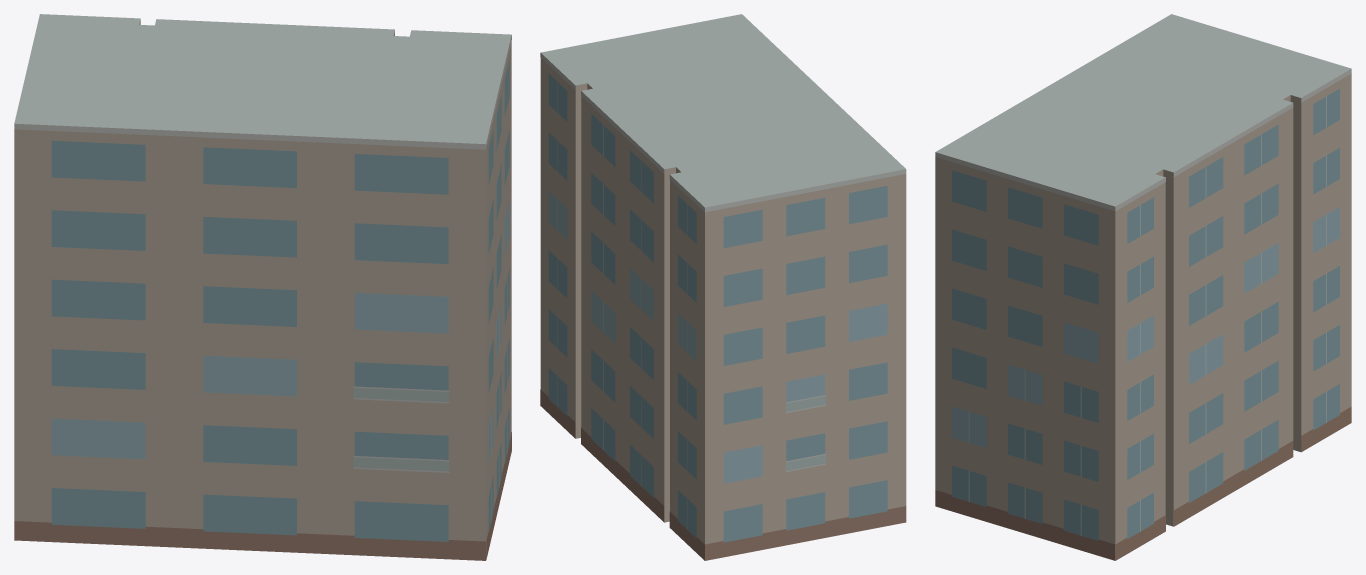
File: survey-upis-32540890.glb
3 renders of one model, left to right at view 1: azimuth 30°, elevation 25°; view 2: azimuth 150°, elevation 25°; view 3: azimuth 270°, elevation 25°, orthographic. The views are drawn at different scales.
Visible parts, largest first — view 1: survey-upis-32540890.tmp; view 2: survey-upis-32540890.tmp; view 3: survey-upis-32540890.tmp.
Boxes of the visible parts, <box> form: survey-upis-32540890.tmp: <box>14,14,511,560</box>; survey-upis-32540890.tmp: <box>540,14,906,560</box>; survey-upis-32540890.tmp: <box>935,14,1351,560</box>.
Size of the model in its own units: 21.35 by 18.3 by 19.5.
